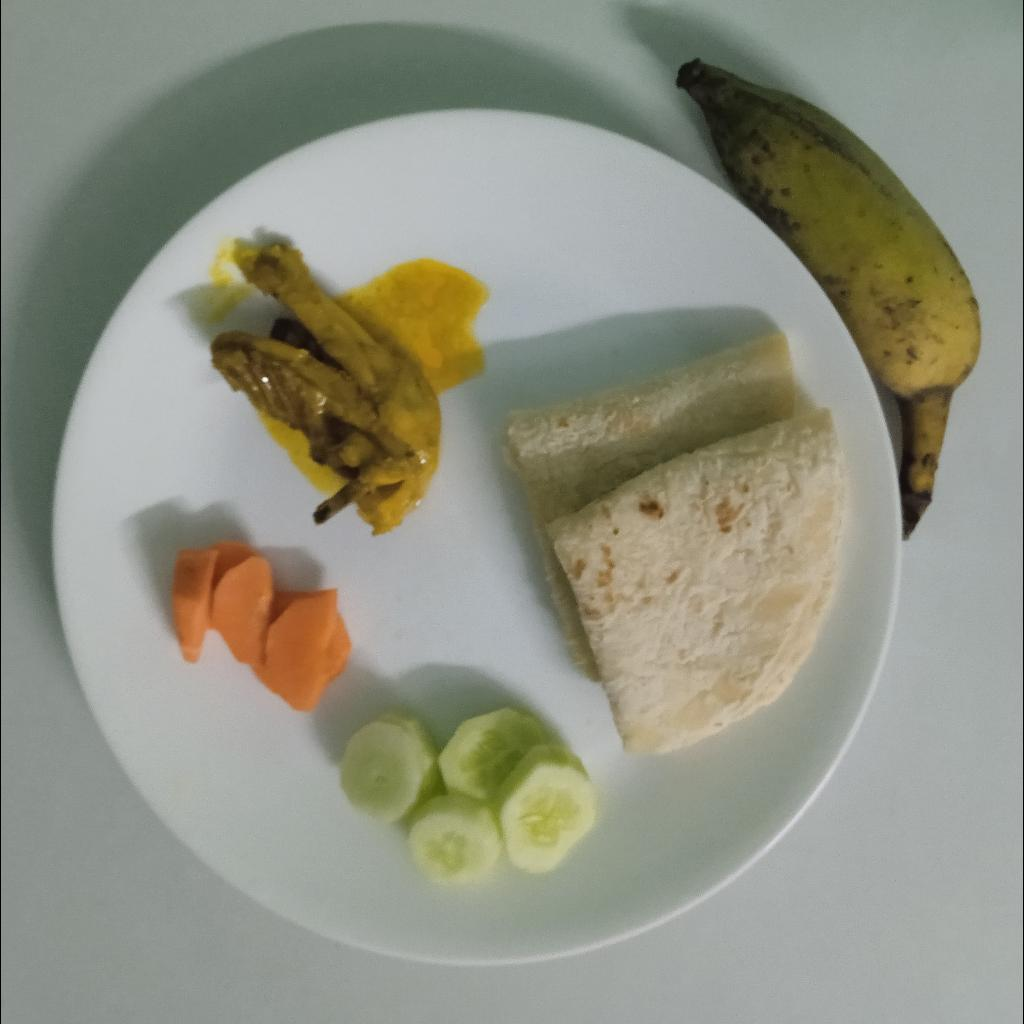banana: (675, 57, 984, 546)
carrot: (167, 534, 361, 712)
chicken: (207, 238, 442, 544)
cucumber: (335, 703, 603, 896)
ruti: (498, 331, 849, 762)
